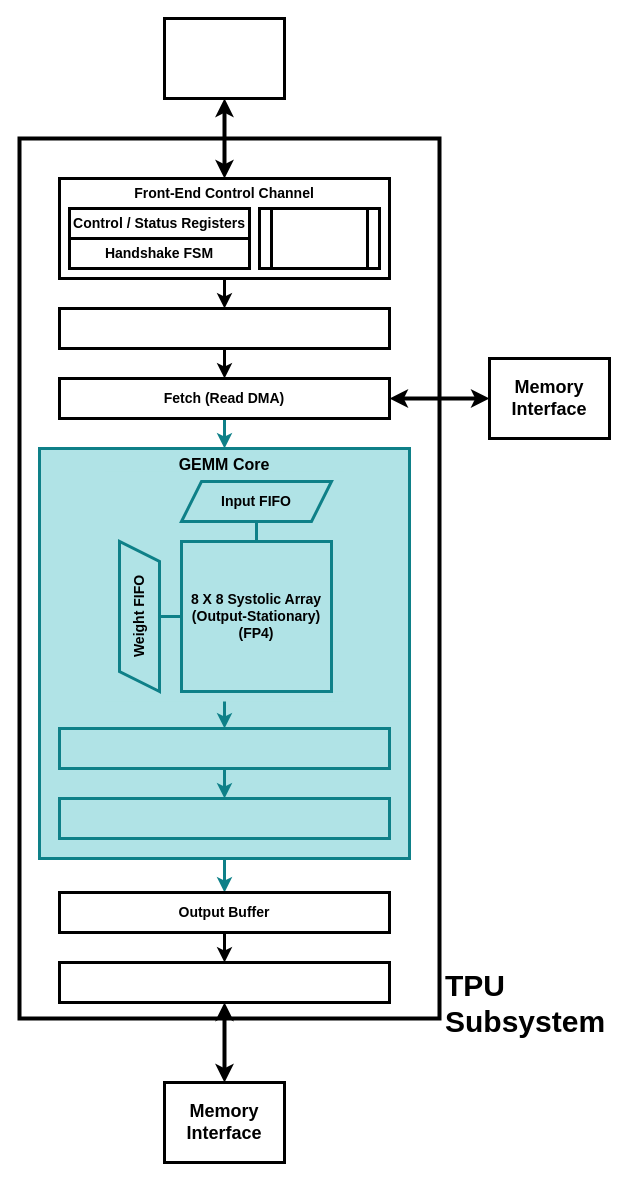
Image size: 630x1181. Some labels were removed from this diagram. Each missing label, with the centre of its shape:
"Control CPU" goes at (x=224, y=58).
"Control FSM (Instruction Decode)" goes at (x=224, y=328).
"Instruction Queue" goes at (x=319, y=238).
"Quantization" goes at (x=224, y=818).
"ReLU Activation" goes at (x=224, y=748).
"Write Back (Write DMA)" goes at (x=224, y=982).
